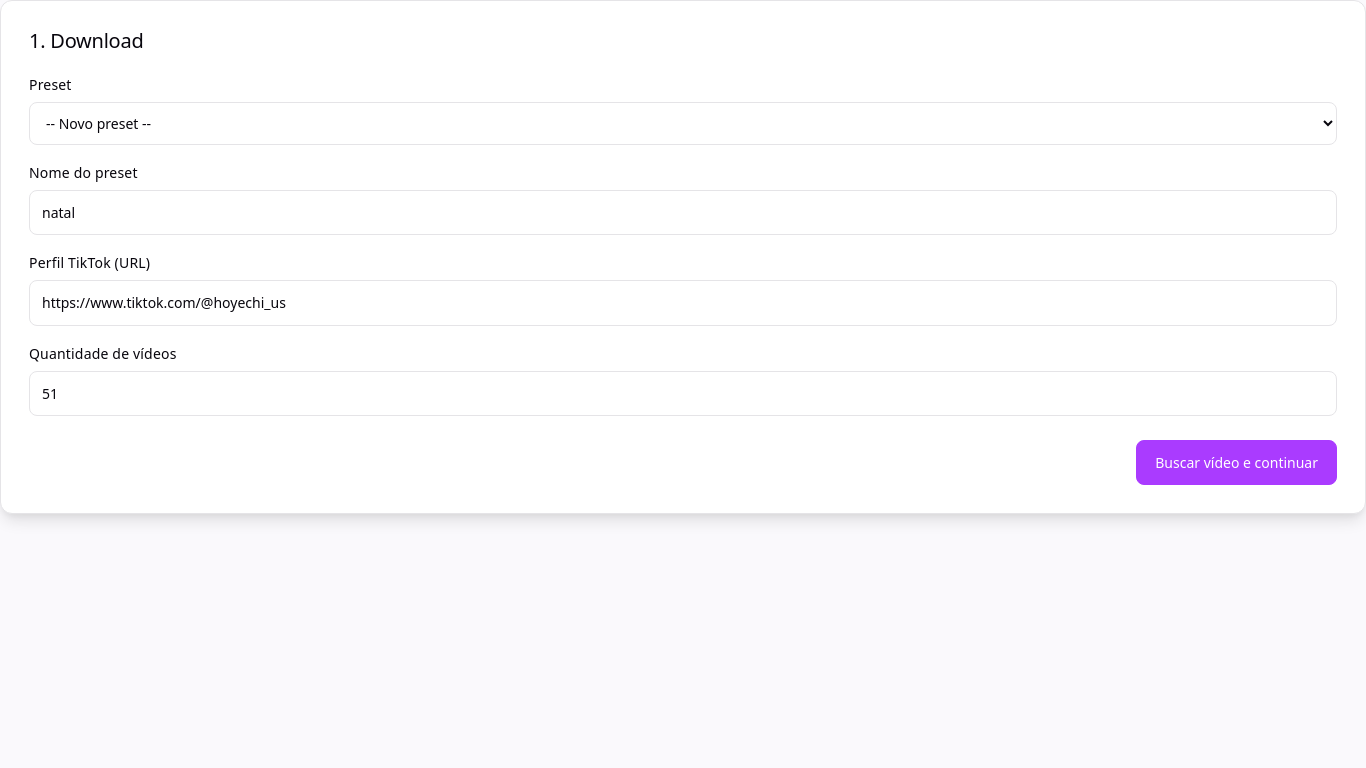
Test case: DownloadStep › shows the backend error inline and does not advance when the download fails
Click the button "Buscar vídeo e continuar" at (1237, 463), box [1136,440,1337,485]
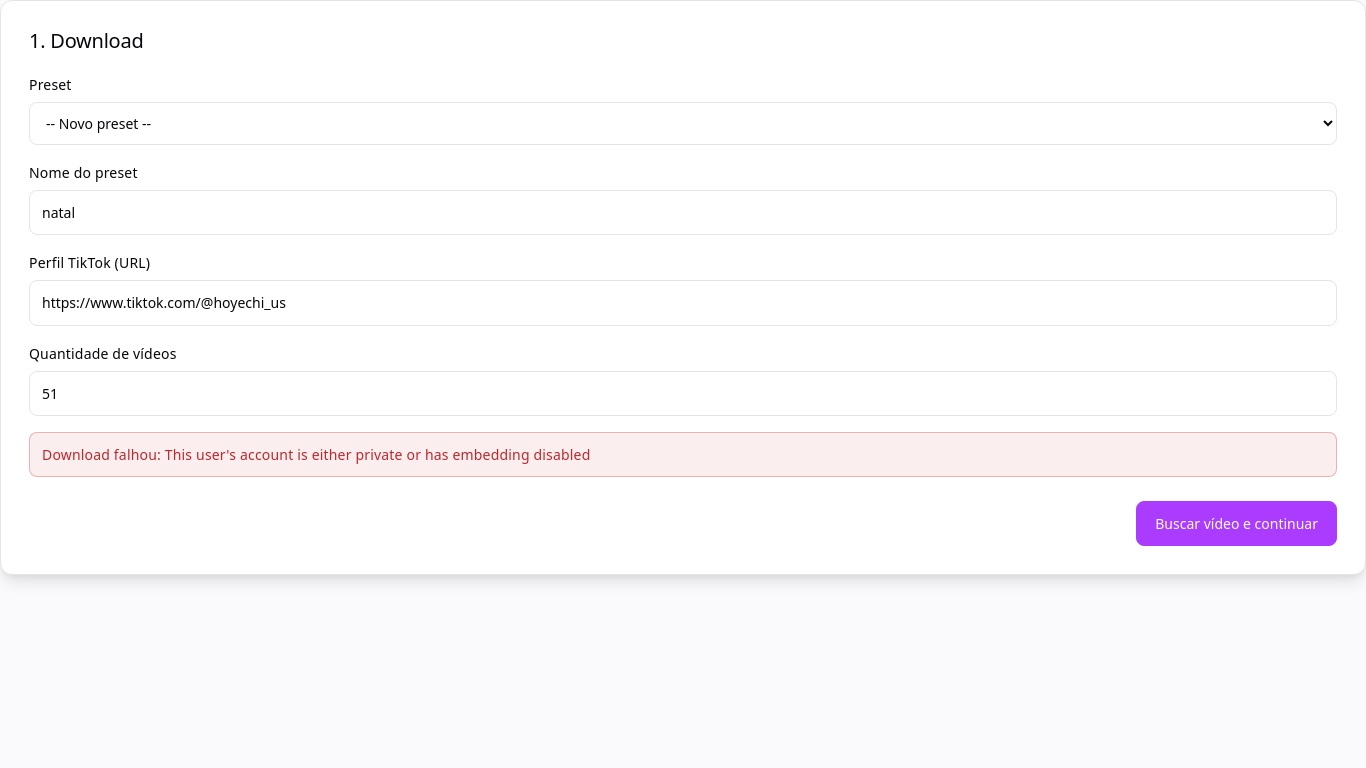
Expected: the text "Download falhou: This user's account is either private or has embedding disabled" is shown, [29,432,1337,477]
